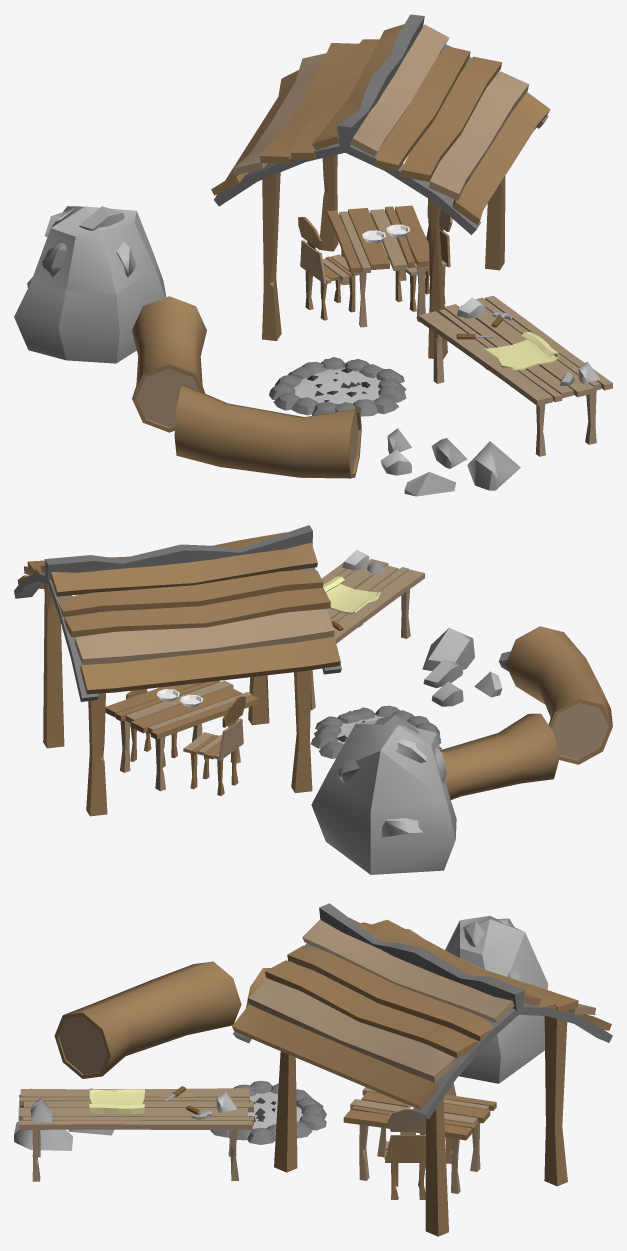
File: MasonCamp.fbx
The picture shows the model from 3 angles, top to bottom: view 1: azimuth 30°, elevation 25°; view 2: azimuth 150°, elevation 25°; view 3: azimuth 270°, elevation 25°; orthographic projection. The views are drawn at different scales.
Visible parts, largest first — view 1: Mason Camp; view 2: Mason Camp; view 3: Mason Camp.
Part boxes in pixels (box(x1,y1,x2,y2)): Mason Camp: box(14, 14, 612, 496); Mason Camp: box(14, 525, 612, 874); Mason Camp: box(14, 903, 612, 1236).
Bounding box in the file's own units: 326 × 156 × 348.
